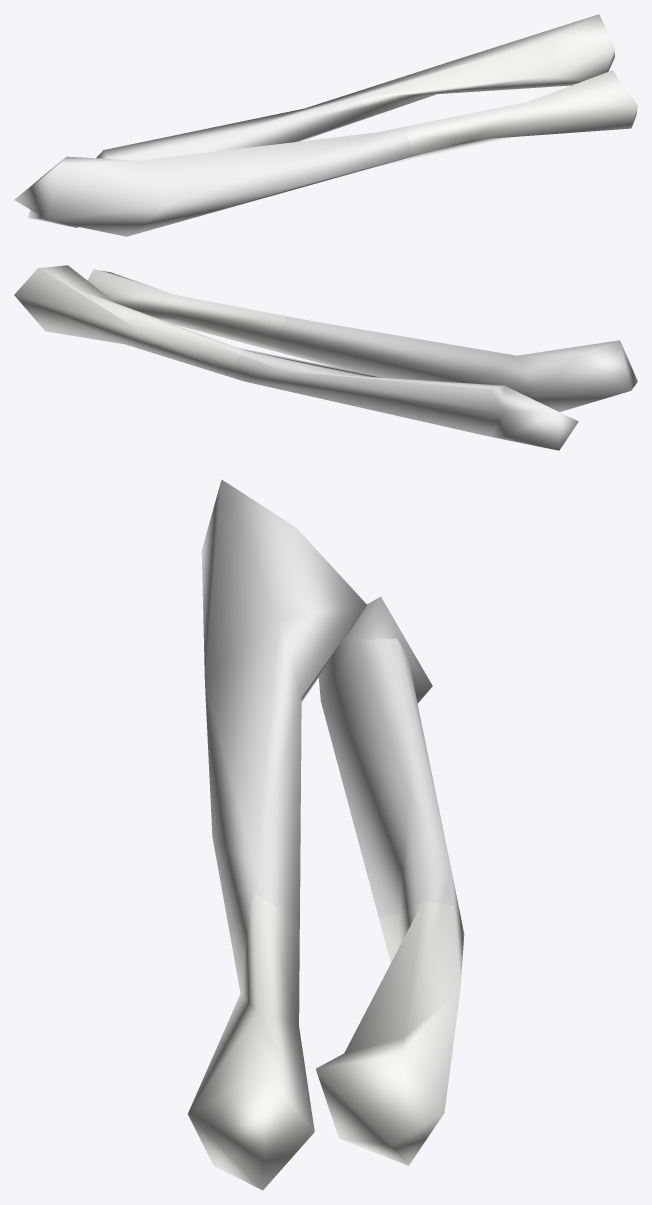
File: SM_bone_2.fbx
3 renders of one model, top to bottom at view 1: azimuth 30°, elevation 25°; view 2: azimuth 150°, elevation 25°; view 3: azimuth 270°, elevation 25°, orthographic. The views are drawn at different scales.
Visible parts, largest first — view 1: SM_bone_2; view 2: SM_bone_2; view 3: SM_bone_2.
Boxes of the visible parts, box(x1,y1,x2,y2) form: SM_bone_2: box(14, 14, 637, 236); SM_bone_2: box(14, 265, 637, 450); SM_bone_2: box(188, 479, 464, 1190).
Size of the model in its own units: 58.95 by 9.26 by 12.26.
Materials: 1 (1 with a texture image).
